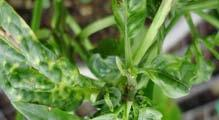Tomato leaf mosaic virus: (0, 0, 91, 114), (138, 49, 198, 98), (111, 0, 156, 38)
